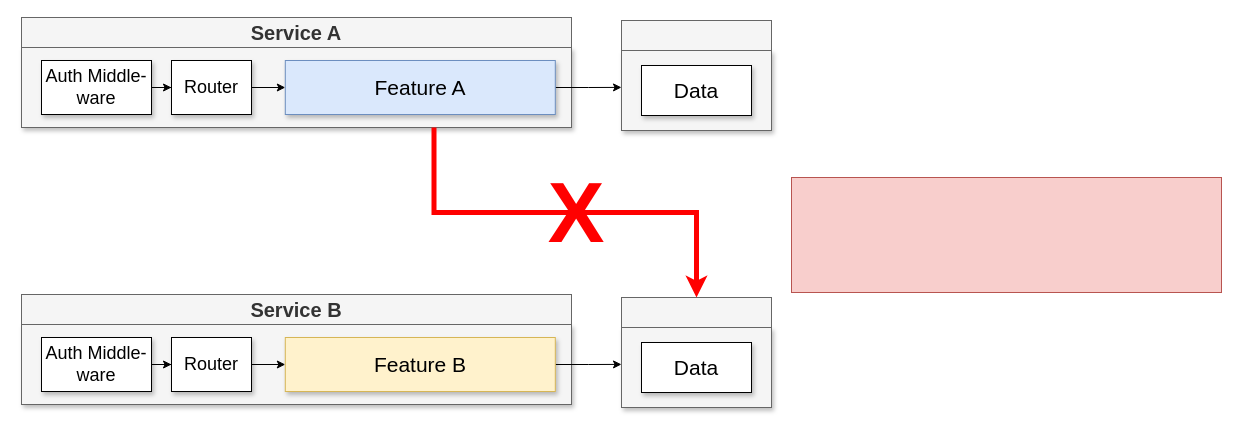
Some shapes in this 1239 by 432 pixel diagram are drawn without their labels. The centre of each missing label's shape, as x and y in pixels:
"DB for A" belongs at [696,35].
"DB for B" belongs at [696,312].
"Services will never, ever reach into another services database" belongs at [1006,234].
